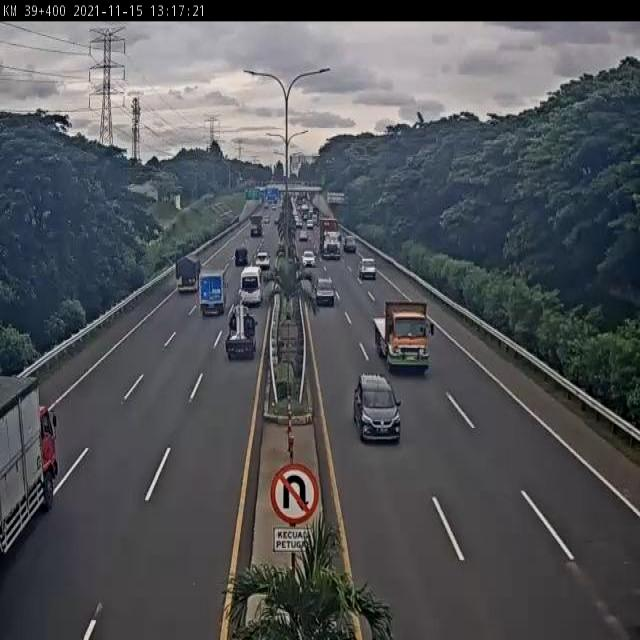Car: (350, 373, 401, 453), (313, 274, 335, 307), (358, 257, 378, 286), (299, 248, 316, 274), (255, 251, 270, 270)
Truck: (0, 353, 61, 555), (372, 294, 441, 373), (197, 266, 231, 319), (227, 301, 254, 363), (316, 216, 348, 265), (171, 252, 200, 297), (247, 211, 263, 245)
Van: (240, 268, 264, 304), (233, 248, 248, 268)
